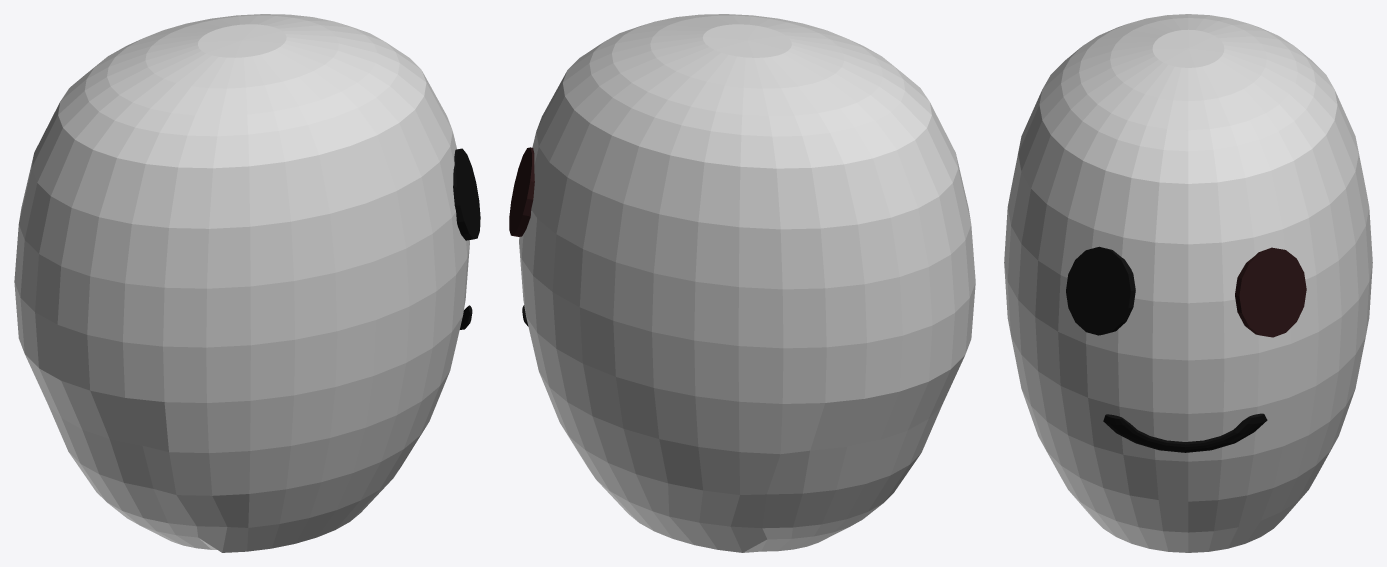
File: Head.fbx
The picture shows the model from 3 angles, left to right: view 1: azimuth 30°, elevation 25°; view 2: azimuth 150°, elevation 25°; view 3: azimuth 270°, elevation 25°; orthographic projection. The views are drawn at different scales.
Visible parts, largest first — view 1: Cylinder; view 2: Cylinder; view 3: Cylinder.
Part boxes in pixels (bbox=[...]): Cylinder: bbox=[14, 14, 480, 552]; Cylinder: bbox=[509, 14, 975, 552]; Cylinder: bbox=[1004, 14, 1372, 552].
Bounding box in the file's own units: 41.19 × 46.45 × 32.76.
